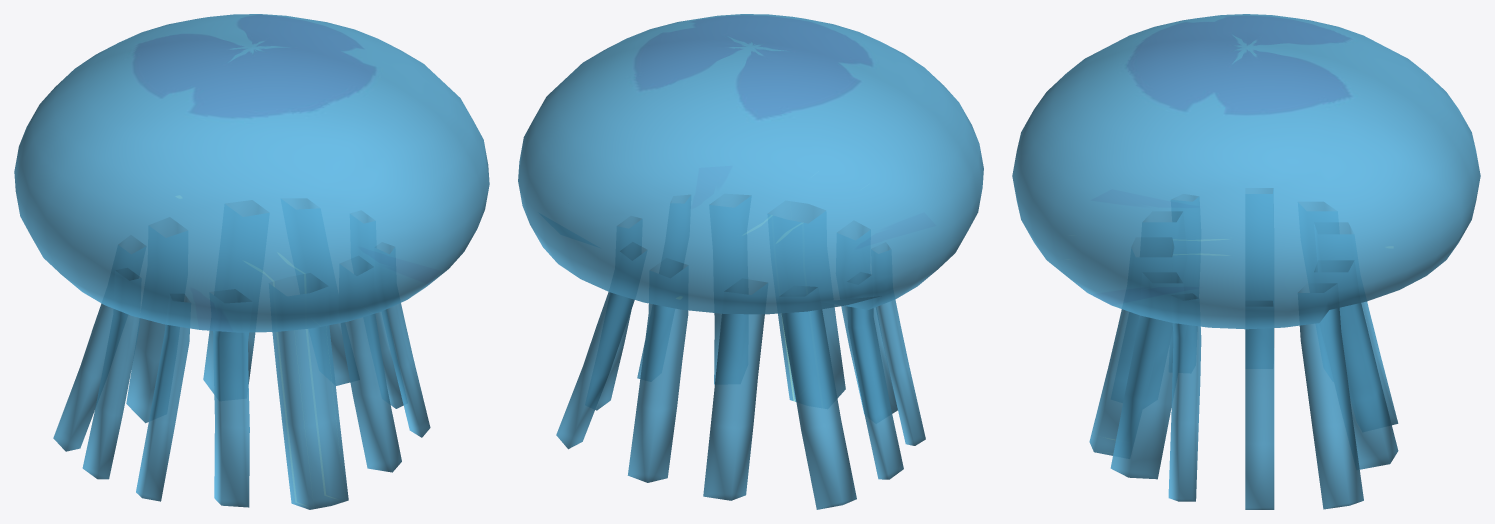
File: 해파리.FBX
The picture shows the model from 3 angles, left to right: view 1: azimuth 30°, elevation 25°; view 2: azimuth 150°, elevation 25°; view 3: azimuth 270°, elevation 25°; orthographic projection. The views are drawn at different scales.
Parts seen in each view (by area): view 1: Sphere001; view 2: Sphere001; view 3: Sphere001.
Part boxes in pixels (x1,y1,x2,y2): Sphere001: (14, 14, 489, 509); Sphere001: (518, 14, 983, 509); Sphere001: (1012, 14, 1480, 509).
Size of the model in its own units: 58.76 by 55.51 by 58.49.
1 material, 1 textured.
